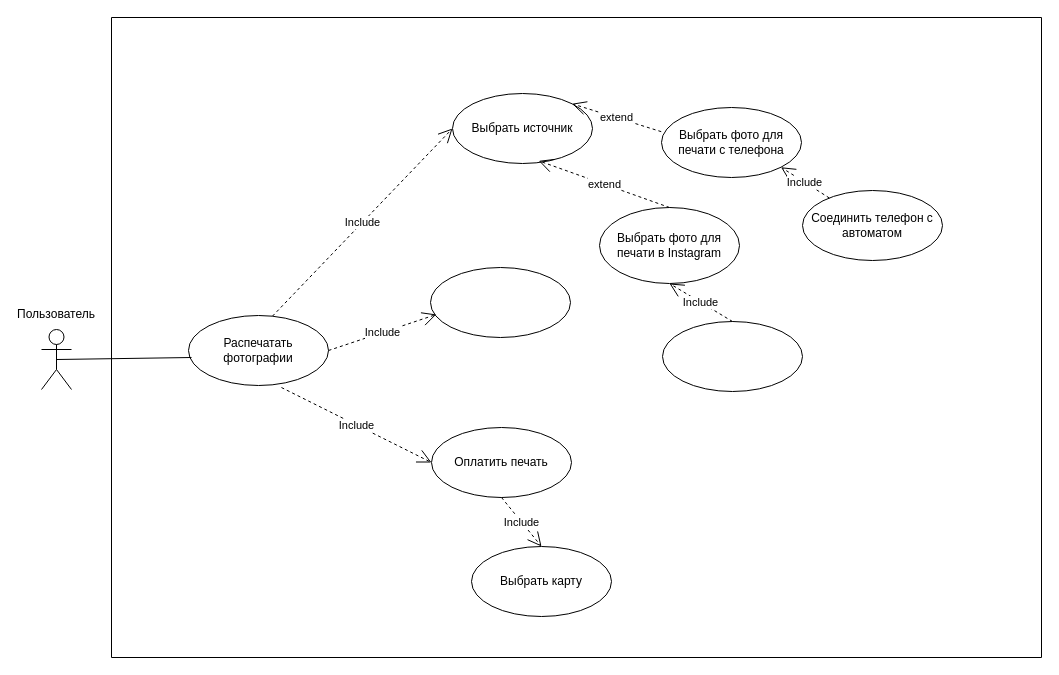
The diagram is 1059 pixels wide and 675 high, and some of its shapes have lost their labels. The centre of each missing label's shape, as x and y in pixels:
Actor: pixel 56 359
Выбрать фото: pixel 500 302
Указать свой логин: pixel 732 356
